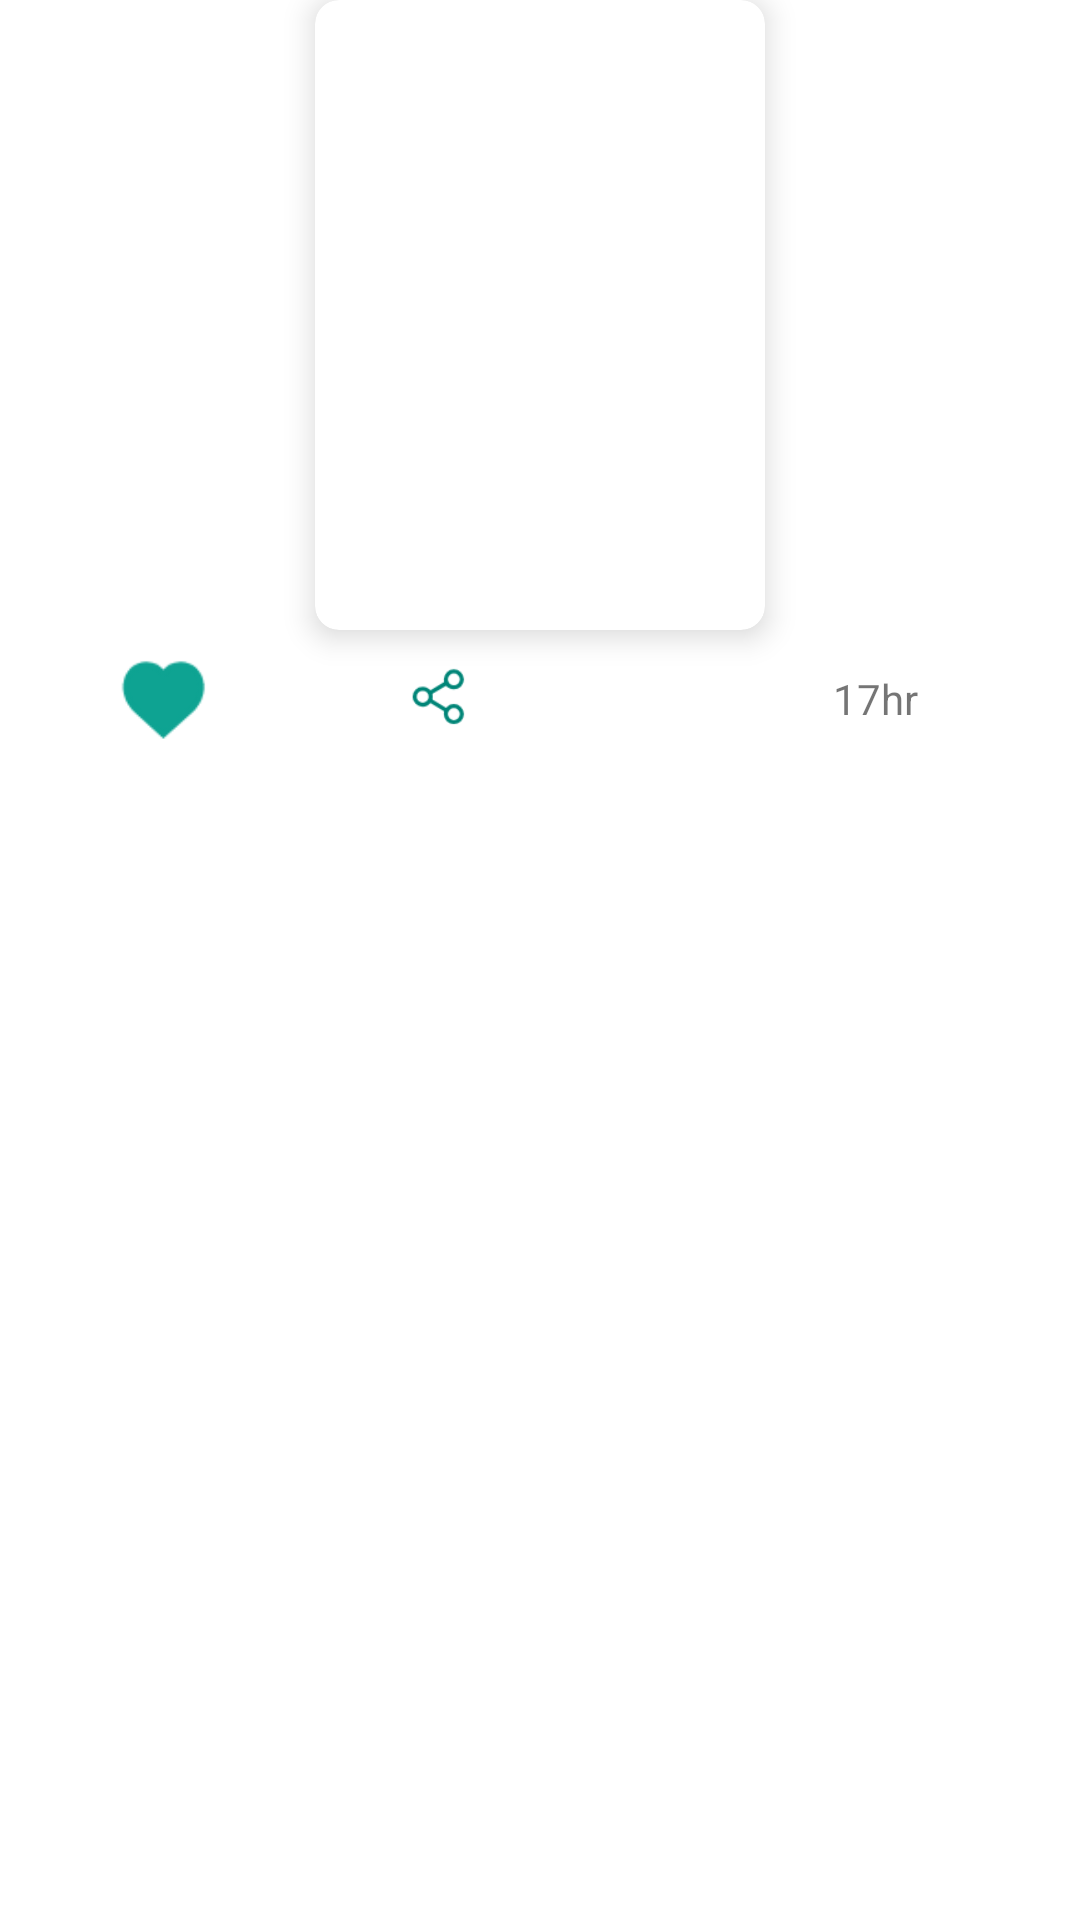

Icon click points for this 1080px×1920px phone screenshot, format (x=x, y=y):
fav: (x=163, y=700)
share: (x=438, y=696)
